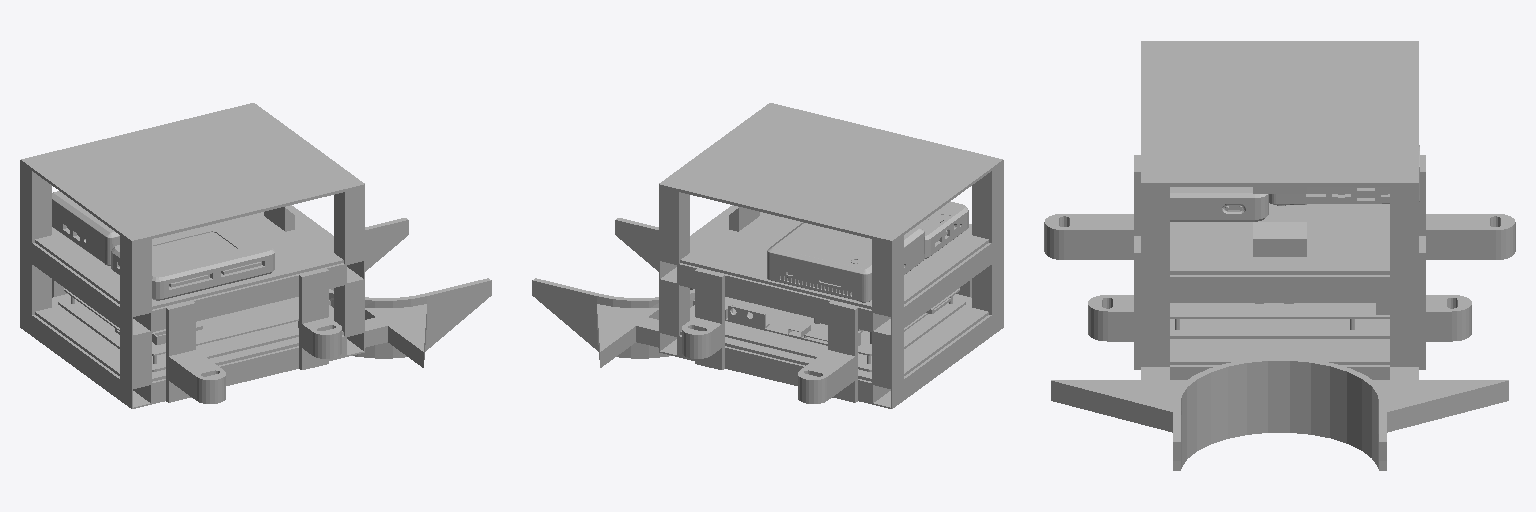
The robot description file, URDF, robot "lide":
<?xml version="1.0" encoding="utf-8"?>
<!-- This URDF was automatically created by SolidWorks to URDF Exporter! Originally created by [author] ([email redacted]) 
     Commit Version: 1.5.1-0-g916b5db  Build Version: 1.5.7152.31018
     For more information, please see http://wiki.ros.org/sw_urdf_exporter -->
<robot
  name="lide">
  <link
    name="base_link">
    <inertial>
      <origin
        xyz="-0.126448241197829 0.0848827885491218 0.0493133099713473"
        rpy="0 0 0" />
      <mass
        value="2.9503242631371" />
      <inertia
        ixx="0.00634740247155601"
        ixy="-6.71753439451374E-07"
        ixz="-1.17589213883092E-05"
        iyy="0.00563152025560446"
        iyz="-1.54000011565682E-07"
        izz="0.011263304731959" />
    </inertial>
    <visual>
      <origin
        xyz="0 0 0"
        rpy="0 0 0" />
      <geometry>
        <mesh
          filename="package://lide/meshes/base_link.STL" />
      </geometry>
      <material
        name="">
        <color
          rgba="0.752941176470588 0.752941176470588 0.752941176470588 1" />
      </material>
    </visual>
    <collision>
      <origin
        xyz="0 0 0"
        rpy="0 0 0" />
      <geometry>
        <mesh
          filename="package://lide/meshes/base_link.STL" />
      </geometry>
    </collision>
  </link>
  <link
    name="LFS">
    <inertial>
      <origin
        xyz="0.0455604268709419 0.00830943309140332 0.00297622851896683"
        rpy="0 0 0" />
      <mass
        value="0.0727928435161985" />
      <inertia
        ixx="2.20927876796313E-05"
        ixy="-1.64845302056301E-08"
        ixz="-1.5645477317522E-07"
        iyy="1.62632133784213E-05"
        iyz="2.96411876511229E-09"
        izz="1.80843397531752E-05" />
    </inertial>
    <visual>
      <origin
        xyz="0 0 0"
        rpy="0 0 0" />
      <geometry>
        <mesh
          filename="package://lide/meshes/LFS.STL" />
      </geometry>
      <material
        name="">
        <color
          rgba="0.752941176470588 0.752941176470588 0.752941176470588 1" />
      </material>
    </visual>
    <collision>
      <origin
        xyz="0 0 0"
        rpy="0 0 0" />
      <geometry>
        <mesh
          filename="package://lide/meshes/LFS.STL" />
      </geometry>
    </collision>
  </link>
  <joint
    name="LFS"
    type="fixed">
    <origin
      xyz="-0.059044 0.1674 -0.036503"
      rpy="1.5708 0 1.5708" />
    <parent
      link="base_link" />
    <child
      link="LFS" />
    <axis
      xyz="0 0 0" />
  </joint>
  <link
    name="LFW">
    <inertial>
      <origin
        xyz="0.015 -6.93889390390723E-18 0"
        rpy="0 0 0" />
      <mass
        value="0.767080911081153" />
      <inertia
        ixx="0.00116426102407189"
        ixy="-1.25105048588131E-22"
        ixz="-1.83311841364852E-20"
        iyy="0.000639661580367031"
        iyz="-6.7762635780344E-21"
        izz="0.000639661580367032" />
    </inertial>
    <visual>
      <origin
        xyz="0 0 0"
        rpy="0 0 0" />
      <geometry>
        <mesh
          filename="package://lide/meshes/LFW.STL" />
      </geometry>
      <material
        name="">
        <color
          rgba="0.898039215686275 0.917647058823529 0.929411764705882 1" />
      </material>
    </visual>
    <collision>
      <origin
        xyz="0 0 0"
        rpy="0 0 0" />
      <geometry>
        <cylinder length="0.03" radius="0.055"/>
      </geometry>
    </collision>
  </link>
  <joint
    name="LFW"
    type="continuous">
    <origin
      xyz="0.063346 -0.006798 0.015044"
      rpy="-1.6264 0 0" />
    <parent
      link="LFS" />
    <child
      link="LFW" />
    <axis
      xyz="1 0 0" />
    <limit
      effort="3.1"
      velocity="7" />
  </joint>
  <link
    name="RFS">
    <inertial>
      <origin
        xyz="-0.0191828308457407 -0.00900932874707058 0.0520056318885905"
        rpy="0 0 0" />
      <mass
        value="0.0727928435161986" />
      <inertia
        ixx="2.20927876796313E-05"
        ixy="-1.64845302056304E-08"
        ixz="1.56454773175212E-07"
        iyy="1.62632133784213E-05"
        iyz="-2.96411876510569E-09"
        izz="1.80843397531752E-05" />
    </inertial>
    <visual>
      <origin
        xyz="0 0 0"
        rpy="0 0 0" />
      <geometry>
        <mesh
          filename="package://lide/meshes/RFS.STL" />
      </geometry>
      <material
        name="">
        <color
          rgba="0.752941176470588 0.752941176470588 0.752941176470588 1" />
      </material>
    </visual>
    <collision>
      <origin
        xyz="0 0 0"
        rpy="0 0 0" />
      <geometry>
        <mesh
          filename="package://lide/meshes/RFS.STL" />
      </geometry>
    </collision>
  </link>
  <joint
    name="RFS"
    type="fixed">
    <origin
      xyz="-0.10807 -0.027781 -0.019216"
      rpy="1.5708 0 1.5708" />
    <parent
      link="base_link" />
    <child
      link="RFS" />
    <axis
      xyz="0 0 0" />
  </joint>
  <link
    name="RFW">
    <inertial>
      <origin
        xyz="-0.015 -3.46944695195361E-18 0"
        rpy="0 0 0" />
      <mass
        value="0.767080911081152" />
      <inertia
        ixx="0.00116426102407189"
        ixy="-4.95911679253153E-37"
        ixz="0"
        iyy="0.000639661580367031"
        iyz="-5.25031148738029E-37"
        izz="0.000639661580367031" />
    </inertial>
    <visual>
      <origin
        xyz="0 0 0"
        rpy="0 0 0" />
      <geometry>
        <mesh
          filename="package://lide/meshes/RFW.STL" />
      </geometry>
      <material
        name="">
        <color
          rgba="0.898039215686275 0.917647058823529 0.929411764705882 1" />
      </material>
    </visual>
    <collision>
      <origin
        xyz="0 0 0"
        rpy="0 0 0" />
      <geometry>
        <cylinder length="0.03" radius="0.055"/>
      </geometry>
    </collision>
  </link>
  <joint
    name="RFW"
    type="continuous">
    <origin
      xyz="-0.036969 -0.024084 0.064073"
      rpy="0 0 0" />
    <parent
      link="RFS" />
    <child
      link="RFW" />
    <axis
      xyz="1 0 0" />
    <limit
      effort="3.1"
      velocity="7" />
  </joint>
  <link
    name="LBS">
    <inertial>
      <origin
        xyz="-4.7988246709707E-10 -0.023473389822872 -1.16815021544703E-09"
        rpy="0 0 0" />
      <mass
        value="0.0835358720814331" />
      <inertia
        ixx="7.72968060896302E-05"
        ixy="-8.60478095934615E-13"
        ixz="1.40586689563478E-13"
        iyy="5.13820931926884E-05"
        iyz="-5.06559896284074E-12"
        izz="7.73952626484255E-05" />
    </inertial>
    <visual>
      <origin
        xyz="0 0 0"
        rpy="0 0 0" />
      <geometry>
        <mesh
          filename="package://lide/meshes/LBS.STL" />
      </geometry>
      <material
        name="">
        <color
          rgba="0.898039215686275 0.917647058823529 0.929411764705882 1" />
      </material>
    </visual>
    <collision>
      <origin
        xyz="0 0 0"
        rpy="0 0 0" />
      <geometry>
        <mesh
          filename="package://lide/meshes/LBS.STL" />
      </geometry>
    </collision>
  </link>
  <joint
    name="LBS"
    type="fixed">
    <origin
      xyz="-0.202 0.24575 -0.012562"
      rpy="1.5708 0 1.5708" />
    <parent
      link="base_link" />
    <child
      link="LBS" />
    <axis
      xyz="0 0 0" />
  </joint>
  <link
    name="LBW">
    <inertial>
      <origin
        xyz="0 0 -2.77555756156289E-17"
        rpy="0 0 0" />
      <mass
        value="0.299097213540614" />
      <inertia
        ixx="0.000107128427988291"
        ixy="-7.7154576721694E-22"
        ixz="-6.56176679301773E-22"
        iyy="0.000109833959413418"
        iyz="-8.63231614238912E-20"
        izz="0.000107128427988291" />
    </inertial>
    <visual>
      <origin
        xyz="0 0 0"
        rpy="0 0 0" />
      <geometry>
        <mesh
          filename="package://lide/meshes/LBW.STL" />
      </geometry>
      <material
        name="">
        <color
          rgba="0.898039215686275 0.917647058823529 0.929411764705882 1" />
      </material>
    </visual>
    <collision>
      <origin
        xyz="0 0 0"
        rpy="0 0 0" />
      <geometry>
        <mesh
          filename="package://lide/meshes/LBW.STL" />
      </geometry>
    </collision>
  </link>
  <joint
    name="LBW"
    type="fixed">
    <origin
      xyz="0 -0.055738 0"
      rpy="3.1416 0 1.5708" />
    <parent
      link="LBS" />
    <child
      link="LBW" />
    <axis
      xyz="0 0 0" />
  </joint>
  <link
    name="RBS">
    <inertial>
      <origin
        xyz="-4.79882529547115E-10 -0.0234733898228721 -1.16815021544703E-09"
        rpy="0 0 0" />
      <mass
        value="0.0835358720814328" />
      <inertia
        ixx="7.72968060896302E-05"
        ixy="-8.60478108763694E-13"
        ixz="1.40586703370834E-13"
        iyy="5.13820931926882E-05"
        iyz="-5.06559895617296E-12"
        izz="7.73952626484253E-05" />
    </inertial>
    <visual>
      <origin
        xyz="0 0 0"
        rpy="0 0 0" />
      <geometry>
        <mesh
          filename="package://lide/meshes/RBS.STL" />
      </geometry>
      <material
        name="">
        <color
          rgba="0.898039215686275 0.917647058823529 0.929411764705882 1" />
      </material>
    </visual>
    <collision>
      <origin
        xyz="0 0 0"
        rpy="0 0 0" />
      <geometry>
        <mesh
          filename="package://lide/meshes/RBS.STL" />
      </geometry>
    </collision>
  </link>
  <joint
    name="RBS"
    type="fixed">
    <origin
      xyz="-0.202 -0.07975 -0.012562"
      rpy="1.5708 0 1.5708" />
    <parent
      link="base_link" />
    <child
      link="RBS" />
    <axis
      xyz="0 0 0" />
  </joint>
  <link
    name="RBW">
    <inertial>
      <origin
        xyz="-6.9389E-18 -6.9389E-18 0"
        rpy="0 0 0" />
      <mass
        value="0.2991" />
      <inertia
        ixx="0.00010713"
        ixy="1.4297E-21"
        ixz="-2.6682E-22"
        iyy="0.00010983"
        iyz="-8.634E-20"
        izz="0.00010713" />
    </inertial>
    <visual>
      <origin
        xyz="0 0 0"
        rpy="0 0 0" />
      <geometry>
        <mesh
          filename="package://lide/meshes/RBW.STL" />
      </geometry>
      <material
        name="">
        <color
          rgba="0.89804 0.91765 0.92941 1" />
      </material>
    </visual>
    <collision>
      <origin
        xyz="0 0 0"
        rpy="0 0 0" />
      <geometry>
        <mesh
          filename="package://lide/meshes/RBW.STL" />
      </geometry>
    </collision>
  </link>
  <joint
    name="RBW"
    type="fixed">
    <origin
      xyz="0 -0.055738 0"
      rpy="0 0 -1.5708" />
    <parent
      link="RBS" />
    <child
      link="RBW" />
    <axis
      xyz="0 0 0" />
  </joint>
  <link
    name="fcam">
    <inertial>
      <origin
        xyz="-0.0115544746517359 -2.64429642848896E-06 0.00129029302682179"
        rpy="0 0 0" />
      <mass
        value="0.0436119957238952" />
      <inertia
        ixx="2.35707061906175E-05"
        ixy="-1.01842273865718E-09"
        ixz="2.17585832536658E-08"
        iyy="4.29479050056035E-06"
        iyz="-8.85018118759569E-10"
        izz="2.21058153511886E-05" />
    </inertial>
    <visual>
      <origin
        xyz="0 0 0"
        rpy="0 0 0" />
      <geometry>
        <mesh
          filename="package://lide/meshes/fcam.STL" />
      </geometry>
      <material
        name="">
        <color
          rgba="0.792156862745098 0.819607843137255 0.933333333333333 1" />
      </material>
    </visual>
    <collision>
      <origin
        xyz="0 0 0"
        rpy="0 0 0" />
      <geometry>
        <mesh
          filename="package://lide/meshes/fcam.STL" />
      </geometry>
    </collision>
  </link>
  <joint
    name="fcam"
    type="fixed">
    <origin
      xyz="-0.0038823 0.083 0.12982"
      rpy="0 0.2618 0" />
    <parent
      link="base_link" />
    <child
      link="fcam" />
    <axis
      xyz="0 0 0" />
  </joint>
  <link
    name="bcam">
    <inertial>
      <origin
        xyz="-0.02010346452991 -2.64354903287134E-06 -0.00725869505663598"
        rpy="0 0 0" />
      <mass
        value="0.0436119949785286" />
      <inertia
        ixx="2.357070560996E-05"
        ixy="-1.01834758005624E-09"
        ixz="2.17579332532706E-08"
        iyy="4.29479078276665E-06"
        iyz="-8.85484503962038E-10"
        izz="2.21058144654638E-05" />
    </inertial>
    <visual>
      <origin
        xyz="0 0 0"
        rpy="0 0 0" />
      <geometry>
        <mesh
          filename="package://lide/meshes/bcam.STL" />
      </geometry>
      <material
        name="">
        <color
          rgba="0.792156862745098 0.819607843137255 0.933333333333333 1" />
      </material>
    </visual>
    <collision>
      <origin
        xyz="0 0 0"
        rpy="0 0 0" />
      <geometry>
        <mesh
          filename="package://lide/meshes/bcam.STL" />
      </geometry>
    </collision>
  </link>
  <joint
    name="bcam"
    type="fixed">
    <origin
      xyz="0 0.083 0.091232"
      rpy="0 0.7854 0" />
    <parent
      link="base_link" />
    <child
      link="bcam" />
    <axis
      xyz="0 0 0" />
  </joint>
  <link
    name="Lidar">
    <inertial>
      <origin
        xyz="0.0135233595886408 0.000461955982206358 -0.0287648854950511"
        rpy="0 0 0" />
      <mass
        value="0.0730845717569496" />
      <inertia
        ixx="1.95808757419765E-05"
        ixy="-1.03933585736233E-07"
        ixz="-4.28391168396099E-07"
        iyy="2.41250079666672E-05"
        iyz="9.42710206434157E-09"
        izz="4.14184516368183E-05" />
    </inertial>
    <visual>
      <origin
        xyz="0 0 0"
        rpy="0 0 0" />
      <geometry>
        <mesh
          filename="package://lide/meshes/Lidar.STL" />
      </geometry>
      <material
        name="">
        <color
          rgba="0.792156862745098 0.819607843137255 0.933333333333333 1" />
      </material>
    </visual>
    <collision>
      <origin
        xyz="0 0 0"
        rpy="0 0 0" />
      <geometry>
        <mesh
          filename="package://lide/meshes/Lidar.STL" />
      </geometry>
    </collision>
  </link>
  <joint
    name="Lidar"
    type="fixed">
    <origin
      xyz="-0.19458 0.082006 0.2065"
      rpy="0 0 0" />
    <parent
      link="base_link" />
    <child
      link="Lidar" />
    <axis
      xyz="0 0 0" />
  </joint>
  <link
    name="imu_link">
    <inertial>
      <origin
        xyz="0 0 0"
        rpy="0 0 0" />
      <mass
        value="0" />
      <inertia
        ixx="0"
        ixy="0"
        ixz="0"
        iyy="0"
        iyz="0"
        izz="0" />
    </inertial>
    <visual>
      <origin
        xyz="0 0 0"
        rpy="0 0 0" />
      <geometry>
        <mesh
          filename="package://lide/meshes/imu_link.STL" />
      </geometry>
      <material
        name="">
        <color
          rgba="1 1 1 1" />
      </material>
    </visual>
    <collision>
      <origin
        xyz="0 0 0"
        rpy="0 0 0" />
      <geometry>
        <mesh
          filename="package://lide/meshes/imu_link.STL" />
      </geometry>
    </collision>
  </link>
  <joint
    name="imu_link"
    type="fixed">
    <origin
      xyz="-0.044 0.083 0.155"
      rpy="0 0 0" />
    <parent
      link="base_link" />
    <child
      link="imu_link" />
    <axis
      xyz="0 0 0" />
  </joint>
</robot>

--- What the picture shows (computed from the rendered views, not written in the file) ---
The picture shows the robot from 3 angles, left to right: view 1: azimuth 30°, elevation 25°; view 2: azimuth 150°, elevation 25°; view 3: azimuth 270°, elevation 25°; orthographic projection.
Model lide with 13 links and 12 joints (2 continuous, 10 fixed), rooted at base_link, posed all joints at 0.
Links seen in each view (by area): view 1: base_link; view 2: base_link; view 3: base_link.
Link boxes in pixels (x1,y1,x2,y2): base_link: [20, 103, 491, 408]; base_link: [532, 103, 1003, 408]; base_link: [1044, 41, 1515, 470].
Bounding box of the posed robot: 0.405 × 0.3555 × 0.205 m (x, y, z).
Meshes: 13 distinct files referenced, 1 mesh visuals loaded (1 binary STL); not drawn: 12 (reference not matched to a file when rendering).